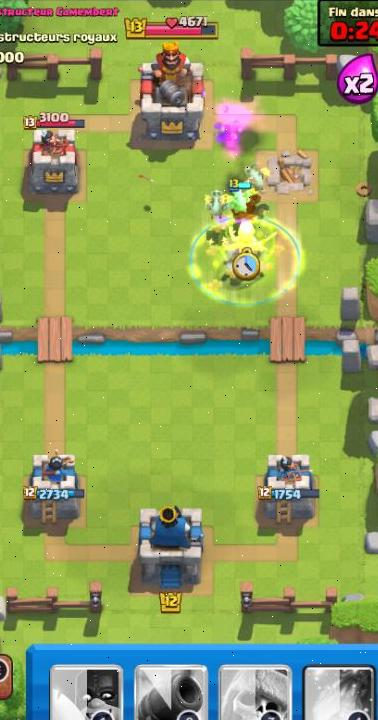player_healer: (220, 220, 277, 276)
player_minions: (202, 190, 230, 223), (227, 182, 255, 215), (242, 162, 270, 195)
